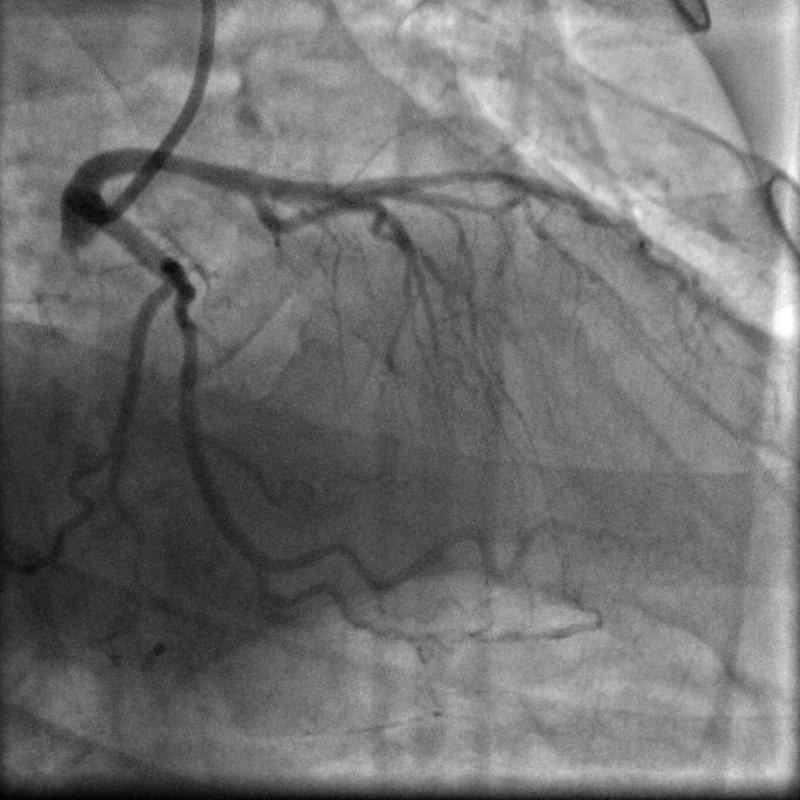Stenosis: (172, 283, 208, 344)
